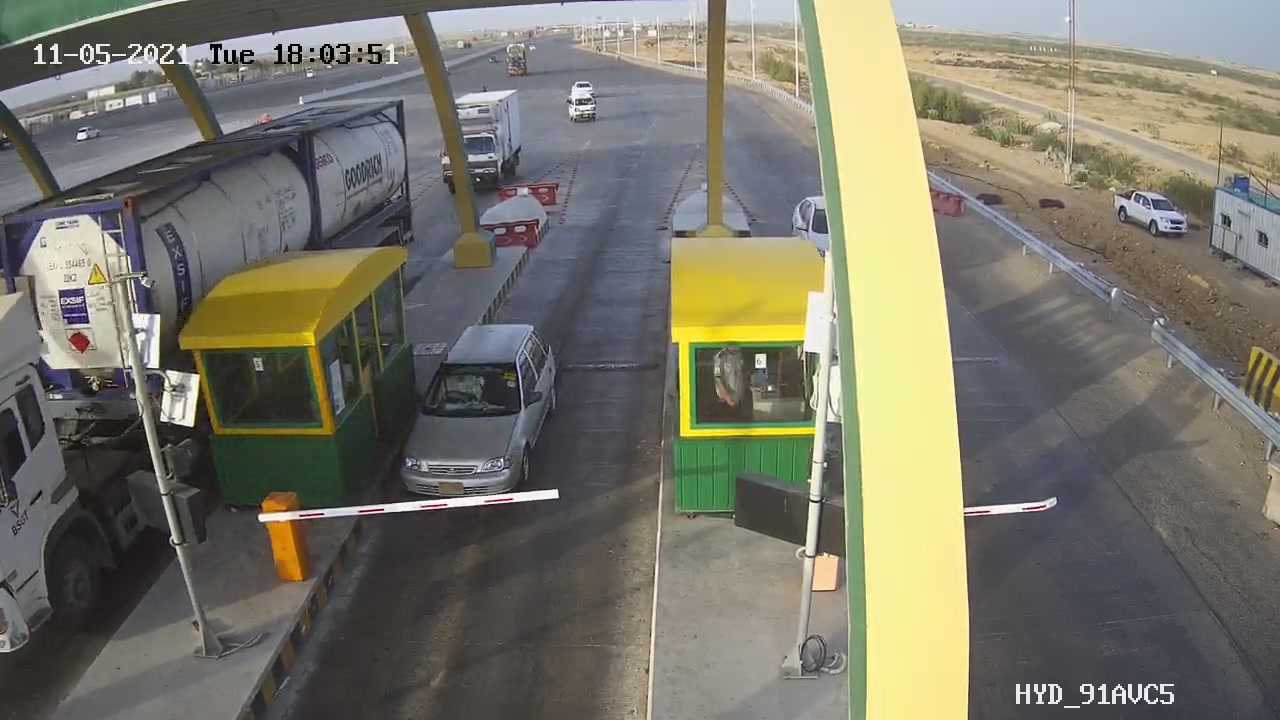F1: (386, 303, 579, 520)
